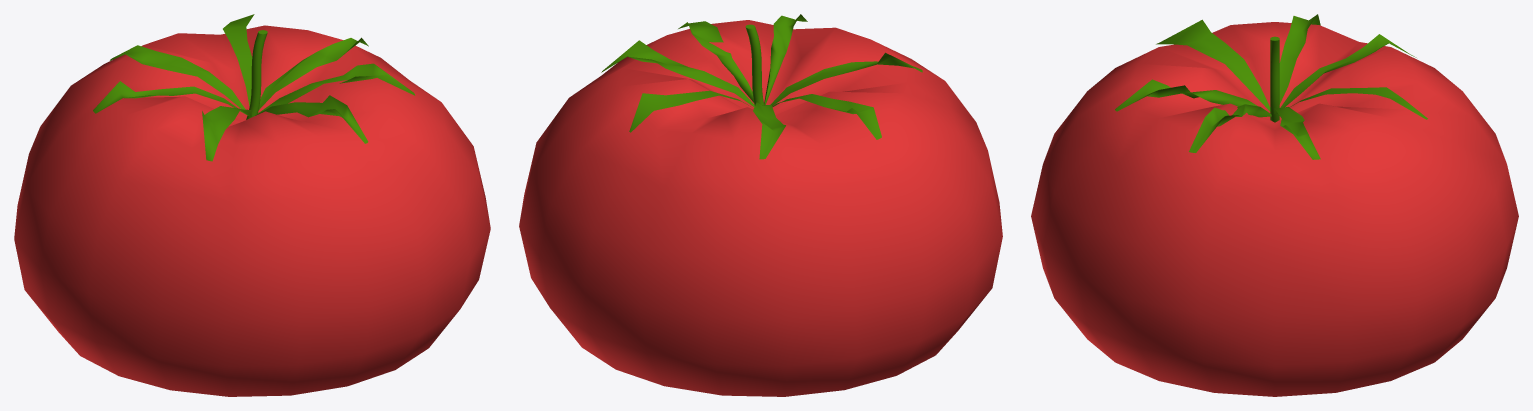
Rendered from tomato.obj.
3 renders of one model, left to right at view 1: azimuth 30°, elevation 25°; view 2: azimuth 150°, elevation 25°; view 3: azimuth 270°, elevation 25°, orthographic.
Parts seen in each view (by area): view 1: Sphere001, Cone001, Cylinder001; view 2: Sphere001, Cone001, Cylinder001; view 3: Sphere001, Cone001, Cylinder001.
Part boxes in pixels (box(x1,y1,x2,y2)): Sphere001: box(14, 25, 490, 396); Cone001: box(93, 14, 415, 161); Cylinder001: box(246, 30, 267, 119); Sphere001: box(519, 20, 1002, 396); Cone001: box(601, 14, 922, 159); Cylinder001: box(745, 24, 764, 105); Sphere001: box(1031, 22, 1518, 396); Cone001: box(1115, 14, 1427, 159); Cylinder001: box(1270, 36, 1279, 122).
Bounding box in the file's own units: 9.75 × 6.92 × 10.
